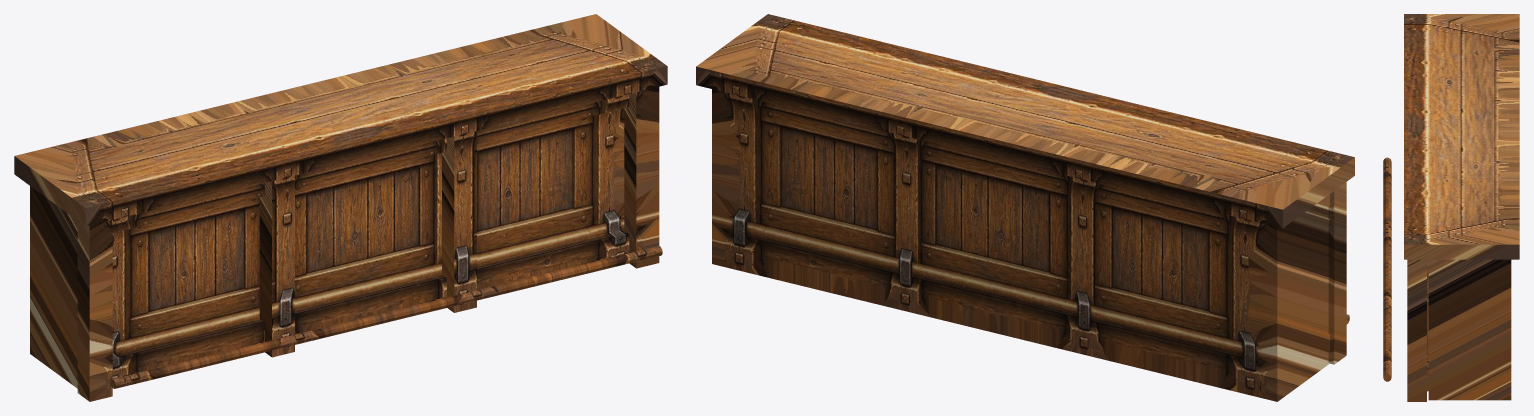
Rendered from v3-tavern-bar.glb.
3 views of the same model, side by side, from view 1: azimuth 30°, elevation 25°; view 2: azimuth 150°, elevation 25°; view 3: azimuth 270°, elevation 25° (orthographic). The views are drawn at different scales.
Visible parts, largest first — view 1: v3-tavern-bar; view 2: v3-tavern-bar; view 3: v3-tavern-bar.
Boxes of the visible parts, x1=… form: v3-tavern-bar: x1=14, y1=14, x2=667, y2=401; v3-tavern-bar: x1=696, y1=14, x2=1354, y2=401; v3-tavern-bar: x1=1383, y1=14, x2=1519, y2=401.
Size of the model in its own units: 3.3 by 1.07 by 0.825.
1 material, 1 textured.
